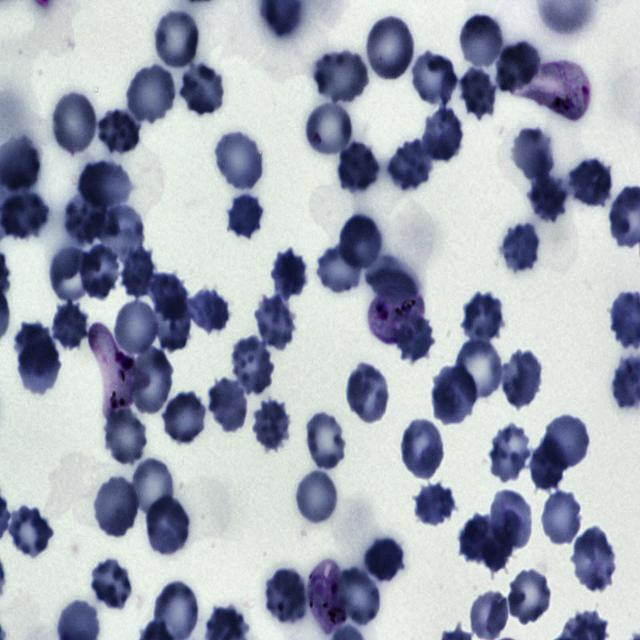red blood cell: (362, 15, 417, 84), (212, 129, 266, 193), (128, 347, 175, 418), (50, 90, 99, 156), (456, 335, 504, 402), (332, 565, 382, 628), (125, 64, 177, 124), (570, 529, 618, 593), (144, 496, 193, 558), (315, 48, 369, 104), (128, 457, 176, 520), (398, 418, 446, 480), (344, 362, 392, 424), (101, 406, 149, 467), (458, 12, 506, 73), (93, 476, 140, 538), (155, 10, 202, 72), (112, 298, 160, 358), (80, 158, 131, 214), (542, 413, 592, 470), (409, 49, 458, 107), (490, 491, 536, 552), (304, 410, 347, 474), (430, 366, 477, 424), (230, 337, 276, 396), (338, 213, 384, 272), (315, 242, 365, 296), (2, 186, 50, 242), (294, 468, 340, 526), (263, 568, 308, 627), (488, 424, 533, 483), (178, 61, 226, 116), (161, 391, 208, 447), (366, 254, 422, 301), (7, 505, 54, 560), (510, 126, 556, 182), (255, 292, 297, 353), (78, 244, 122, 302), (88, 558, 136, 611), (306, 105, 354, 158), (501, 350, 544, 409), (540, 490, 584, 547), (101, 205, 145, 262), (498, 37, 539, 98), (568, 156, 614, 210), (422, 106, 464, 164), (526, 169, 570, 224), (13, 321, 57, 376), (19, 340, 62, 396), (49, 246, 92, 302), (386, 141, 432, 193), (207, 378, 250, 433), (508, 569, 550, 625), (96, 107, 142, 158), (250, 397, 292, 452), (526, 441, 568, 496), (186, 286, 231, 337), (500, 222, 543, 275), (153, 295, 192, 353), (462, 293, 505, 345), (458, 66, 498, 121), (65, 191, 105, 244), (144, 274, 190, 320), (396, 312, 438, 362), (271, 248, 310, 301), (119, 247, 158, 300), (413, 481, 456, 529), (226, 190, 266, 241), (468, 590, 509, 639), (50, 301, 89, 352), (339, 141, 376, 194), (459, 514, 496, 562), (365, 536, 402, 583), (481, 527, 515, 574)
trophozoite: (88, 320, 151, 422), (510, 60, 592, 121), (366, 288, 427, 344), (306, 558, 349, 636)
